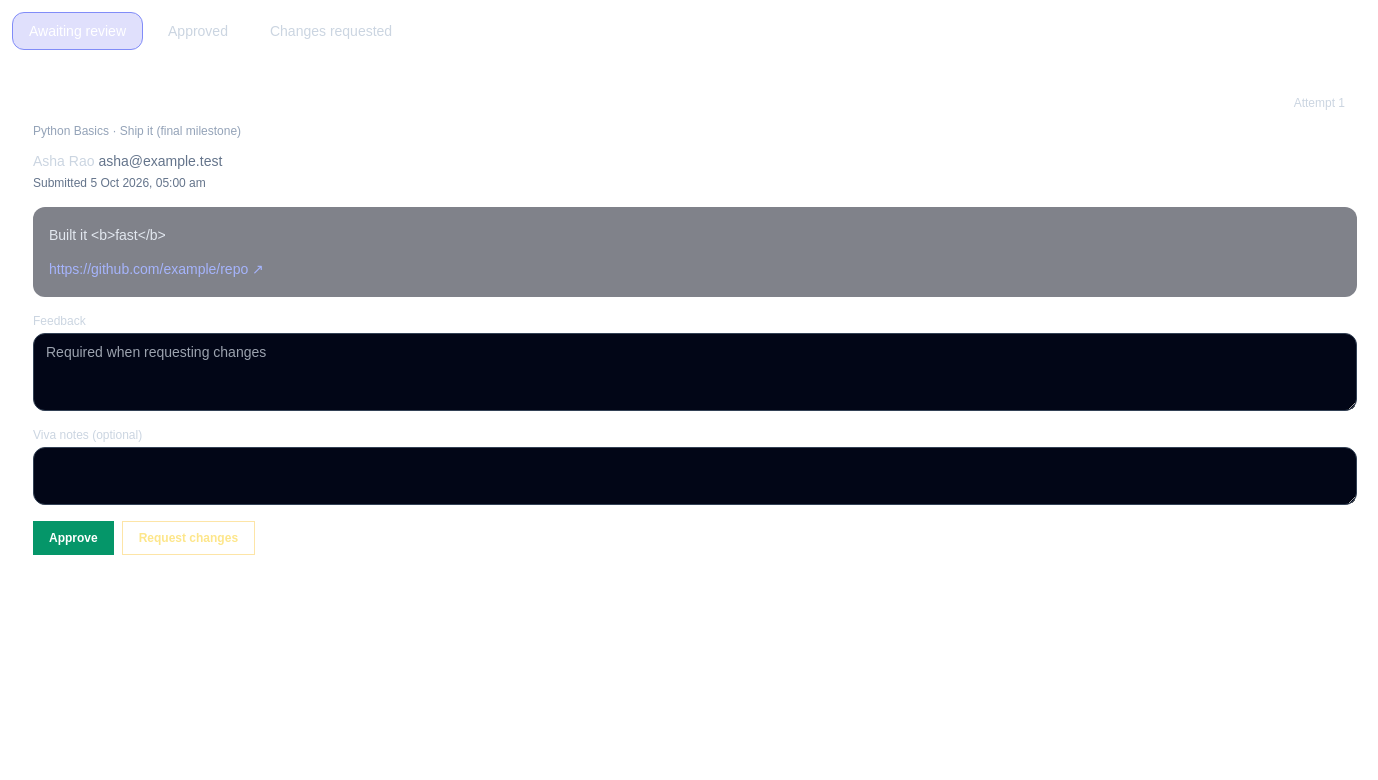
Test: ProjectReviewQueue › offers approval to ADMIN on a final milestone and reports the readiness evidence
Click the button "approve " at (73, 538), box [33,521,114,555]
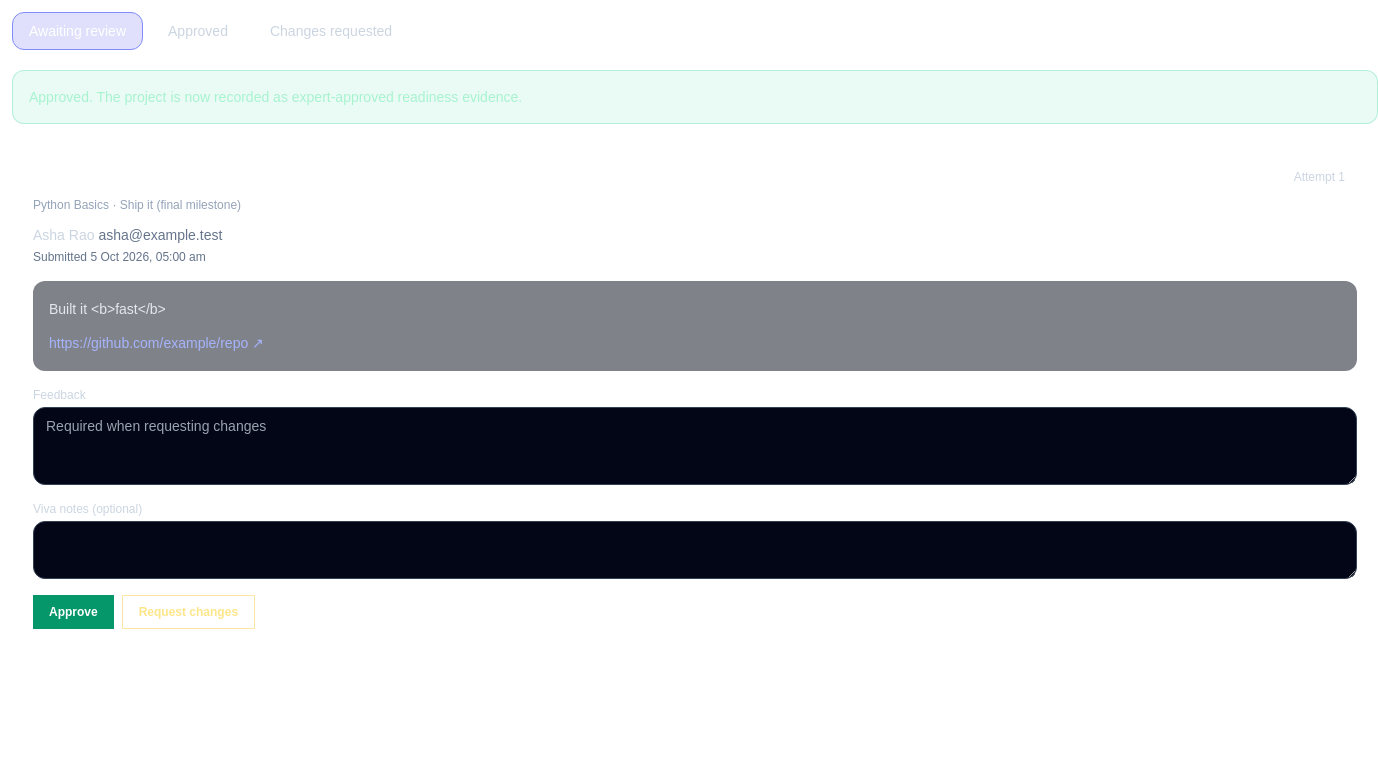
Now the text "Approved. The project is now recorded as expert-approved readiness evidence." is shown, box [12,70,1377,124]
